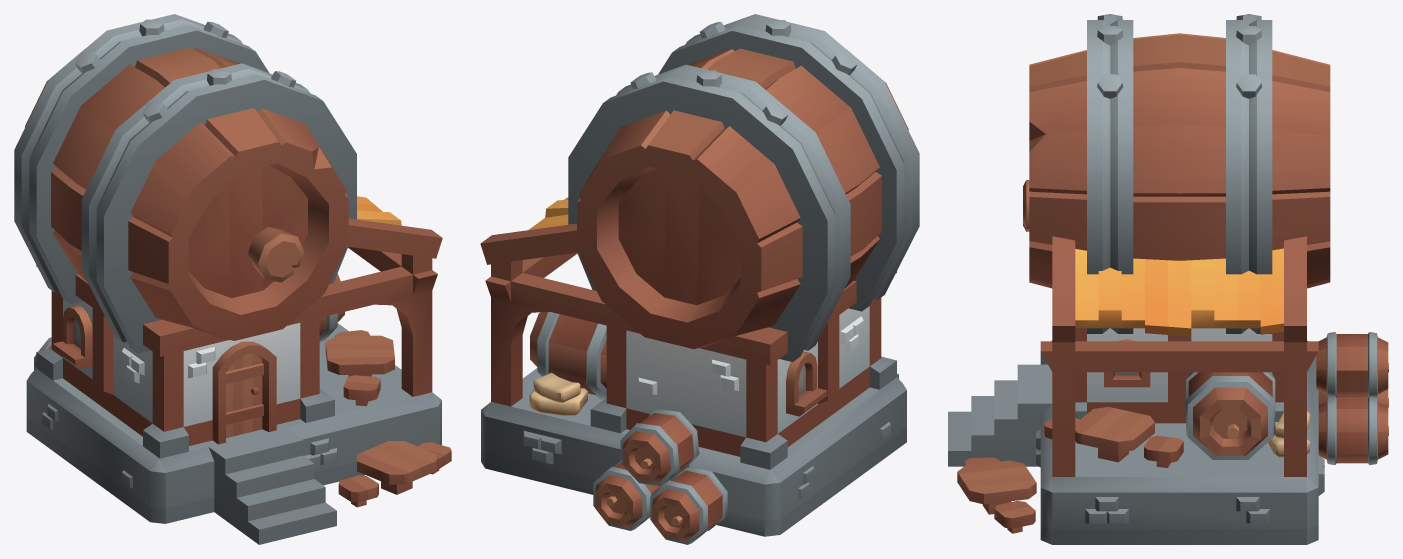
Rendered from building_tavern_yellow-transformed.glb.
The picture shows the model from 3 angles, left to right: view 1: azimuth 30°, elevation 25°; view 2: azimuth 150°, elevation 25°; view 3: azimuth 270°, elevation 25°; orthographic projection. The views are drawn at different scales.
Visible parts, largest first — view 1: building_tavern_yellow; view 2: building_tavern_yellow; view 3: building_tavern_yellow.
Boxes of the visible parts, x1=… form: building_tavern_yellow: x1=14, y1=14, x2=451, y2=544; building_tavern_yellow: x1=480, y1=14, x2=919, y2=544; building_tavern_yellow: x1=948, y1=14, x2=1388, y2=544.
Bounding box in the file's own units: 1.17 × 1.4 × 1.33.
1 material, 1 textured.
